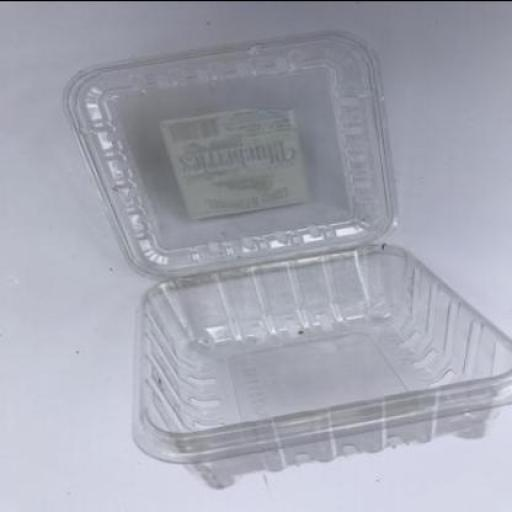plastic: (64, 31, 511, 490), (133, 240, 511, 490), (66, 32, 402, 278)
